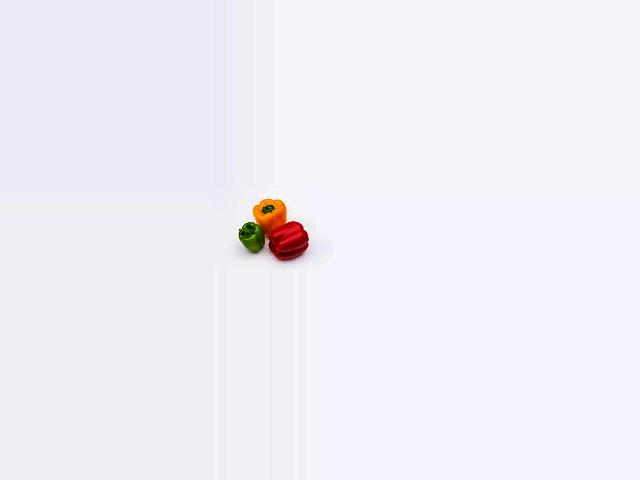bell_pepper: (231, 219, 265, 253)
